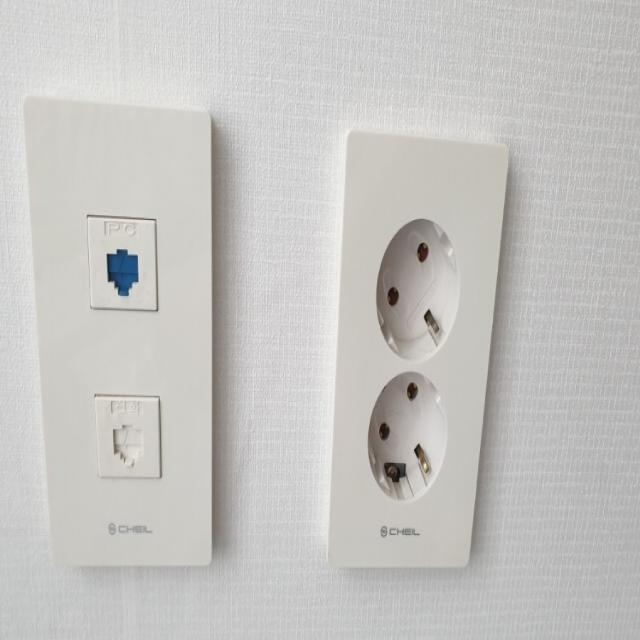typeb: (314, 100, 522, 614)
